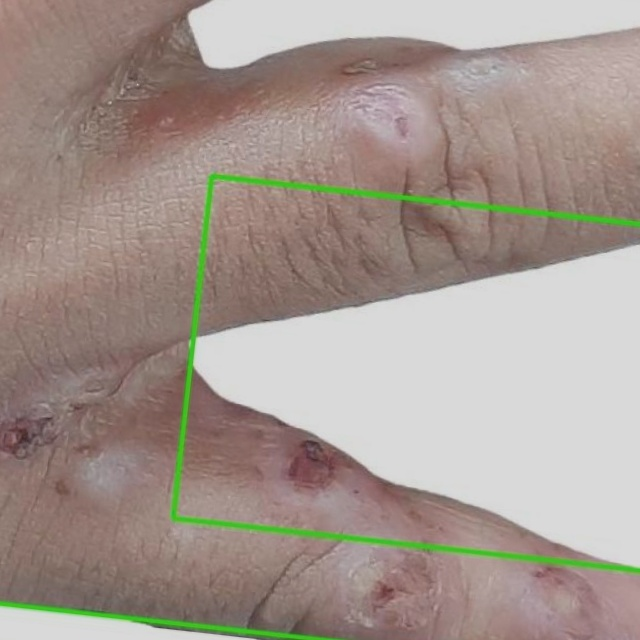Scabies: (0, 0, 639, 639), (173, 175, 639, 570)
